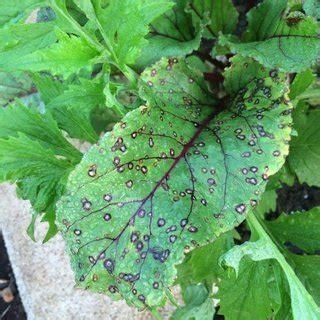black-spot: (105, 135, 150, 186), (229, 128, 265, 186), (154, 206, 198, 243), (75, 193, 95, 215)
